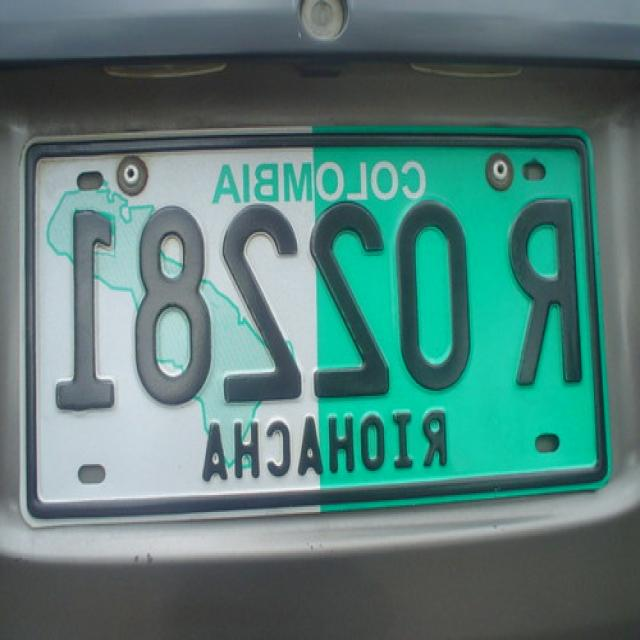placas: (41, 187, 594, 430)
